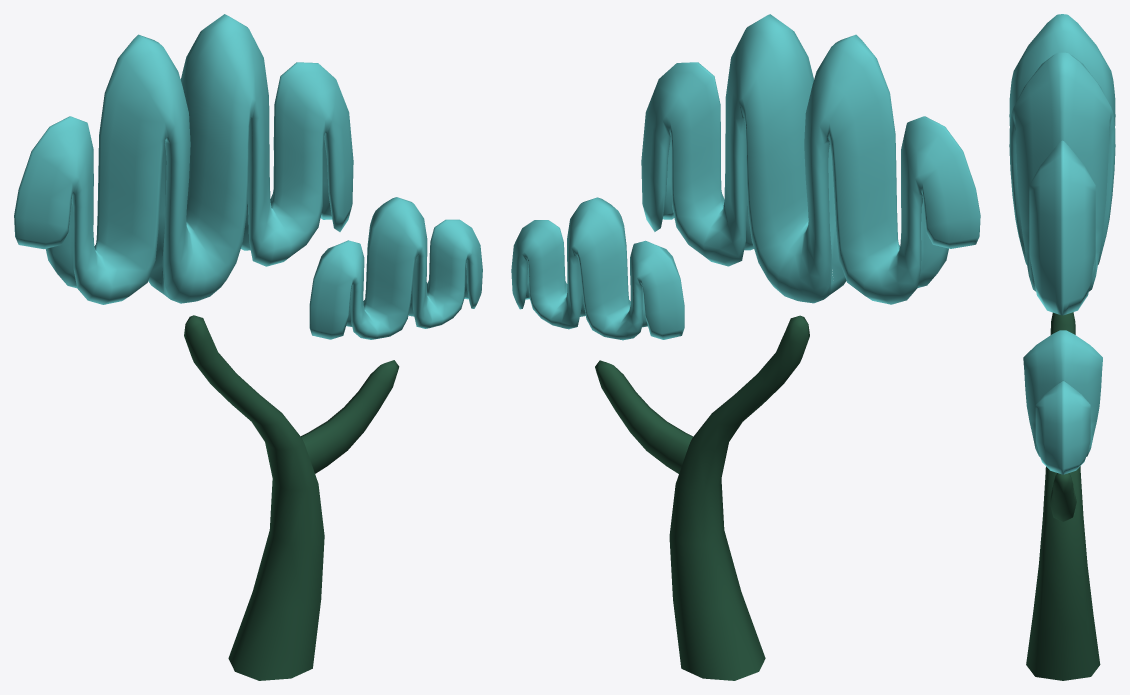
Rendered from Tree Floating-tj2fePl8Eu.glb.
The picture shows the model from 3 angles, left to right: view 1: azimuth 30°, elevation 25°; view 2: azimuth 150°, elevation 25°; view 3: azimuth 270°, elevation 25°; orthographic projection. The views are drawn at different scales.
Parts seen in each view (by area): view 1: Tree_Floating_3; view 2: Tree_Floating_3; view 3: Tree_Floating_3.
Boxes of the visible parts, x1,y1,x2,y2 form: Tree_Floating_3: (14, 14, 482, 680); Tree_Floating_3: (511, 14, 980, 680); Tree_Floating_3: (1009, 14, 1115, 680).
Bounding box in the file's own units: 3.87 × 5.21 × 0.843.
1 material, 1 textured.
